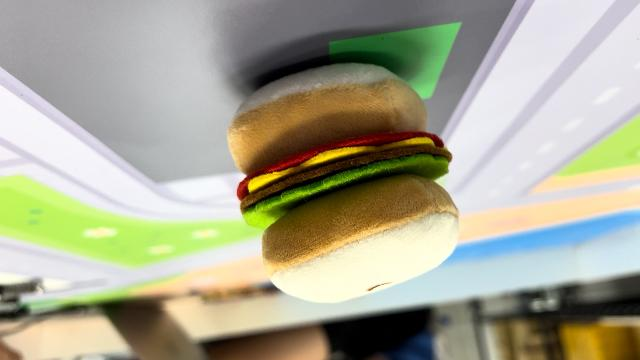sandwich: (225, 60, 463, 304)
